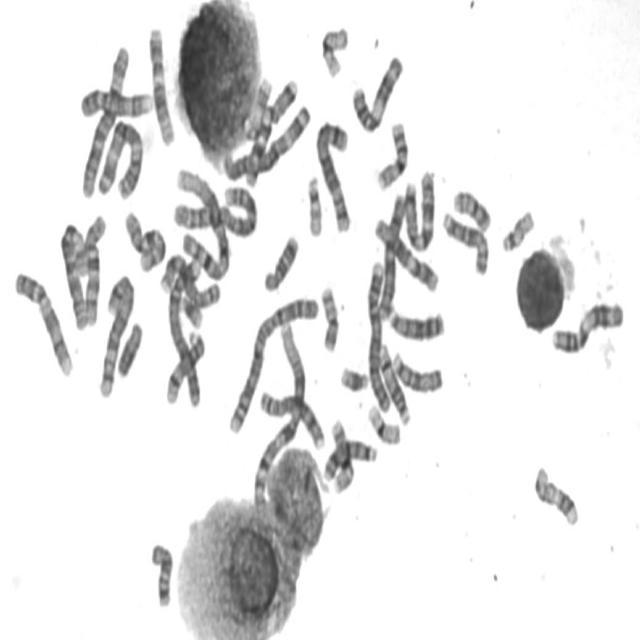A1: (250, 293, 310, 524), (172, 162, 232, 283)
A2: (225, 289, 320, 438), (171, 179, 260, 239)
A3: (219, 99, 314, 184), (93, 113, 145, 201)
B4: (163, 248, 204, 410), (364, 256, 393, 415)
B5: (96, 267, 136, 401), (312, 113, 352, 234)
C10: (80, 208, 108, 328), (121, 204, 167, 275)
C11: (547, 295, 626, 357), (348, 49, 404, 135)
C12: (371, 210, 441, 294), (146, 21, 177, 148)
C6: (78, 39, 131, 200), (56, 218, 89, 331)
C7: (244, 77, 300, 190), (401, 165, 436, 255)
C8: (256, 385, 326, 452), (157, 248, 223, 310)
C9: (10, 264, 74, 380), (76, 82, 155, 120)
D13: (321, 435, 378, 483), (384, 300, 446, 342)
D14: (162, 326, 207, 406), (376, 338, 412, 427)
D15: (439, 206, 490, 278), (389, 345, 444, 396)
E16: (373, 116, 410, 192), (329, 417, 355, 496)
E17: (531, 461, 581, 528), (243, 73, 274, 143)
E18: (260, 228, 300, 294), (147, 537, 175, 609)
F19: (318, 20, 350, 80), (365, 399, 402, 446)
F20: (450, 184, 492, 235), (317, 279, 341, 354)
G21: (176, 288, 204, 330), (338, 361, 370, 395)
G22: (499, 204, 536, 255), (304, 169, 324, 239)
X: (375, 186, 408, 322)
Y: (114, 316, 144, 380)
